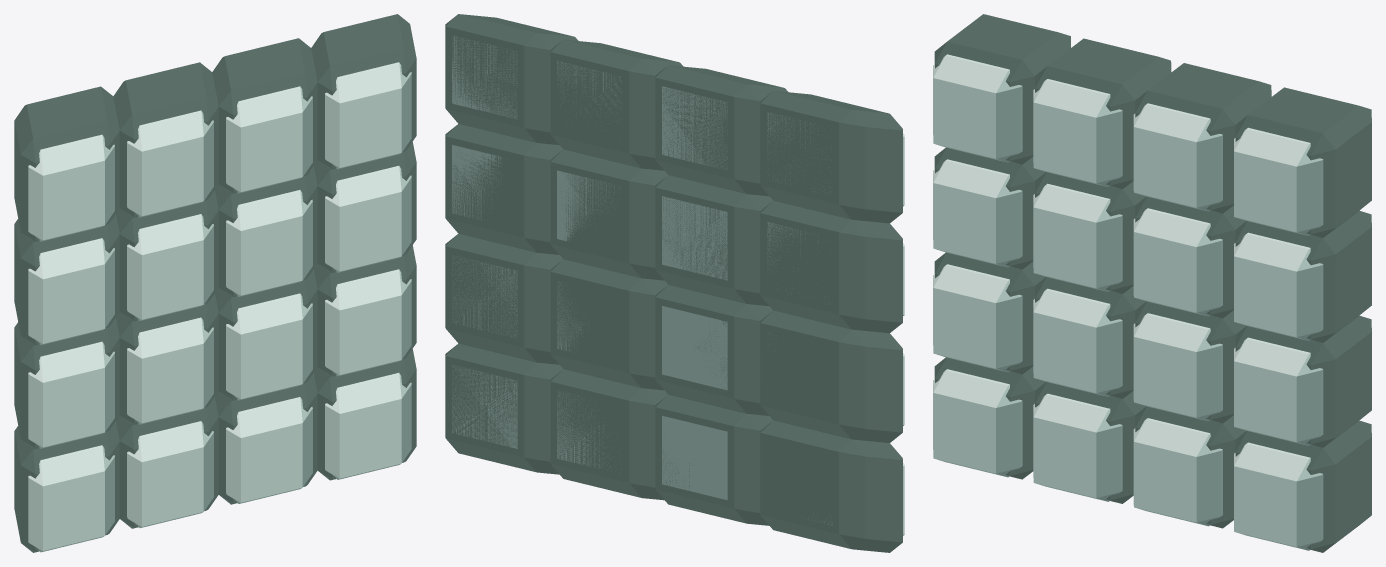
The model's file is Terrain_Block4x4.gltf.
The picture shows the model from 3 angles, left to right: view 1: azimuth 30°, elevation 25°; view 2: azimuth 150°, elevation 25°; view 3: azimuth 330°, elevation 25°; orthographic projection. The views are drawn at different scales.
Parts seen in each view (by area): view 1: Terrain_Block4x4_baked; view 2: Terrain_Block4x4_baked; view 3: Terrain_Block4x4_baked.
Part boxes in pixels (box(x1,y1,x2,y2)): Terrain_Block4x4_baked: box(14, 14, 416, 552); Terrain_Block4x4_baked: box(445, 14, 904, 552); Terrain_Block4x4_baked: box(933, 14, 1371, 552).
Size of the model in its own units: 4.15 by 4.15 by 0.7.
